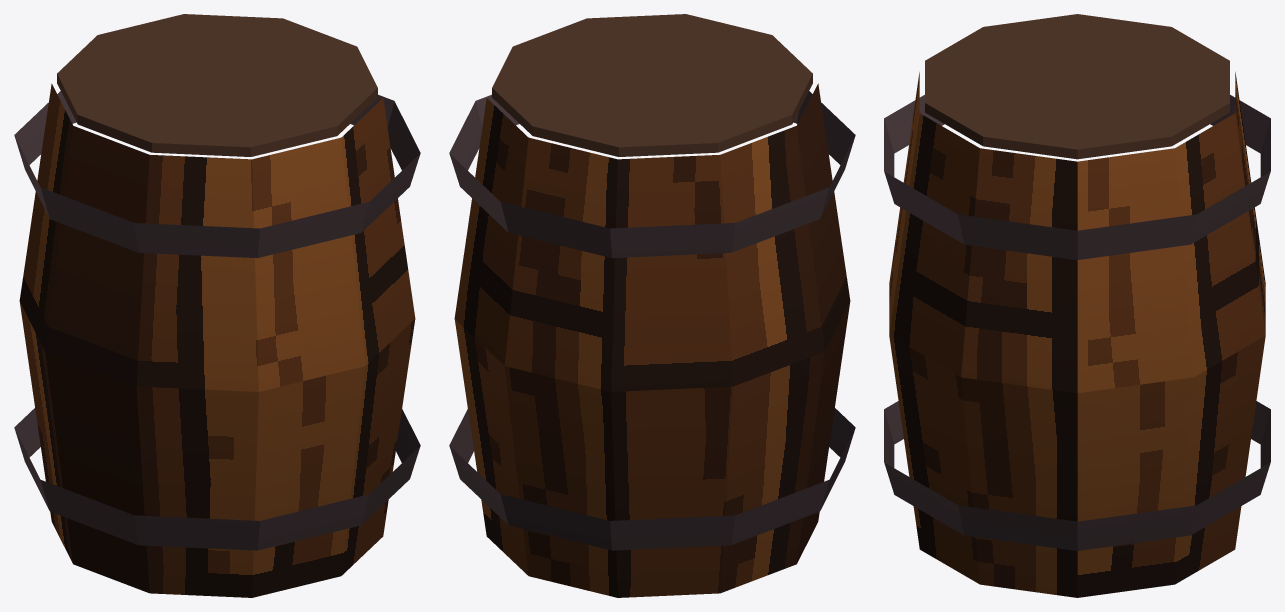
File: barrel.glb
3 views of the same model, side by side, from view 1: azimuth 30°, elevation 25°; view 2: azimuth 150°, elevation 25°; view 3: azimuth 270°, elevation 25° (orthographic).
Parts seen in each view (by area): view 1: barrel; view 2: barrel; view 3: barrel.
Boxes of the visible parts, <box> form: barrel: <box>14,14,420,597</box>; barrel: <box>449,14,855,597</box>; barrel: <box>884,14,1270,597</box>.
Size of the model in its own units: 0.76 by 0.92 by 0.7228.
Materials: 2 (1 with a texture image).
